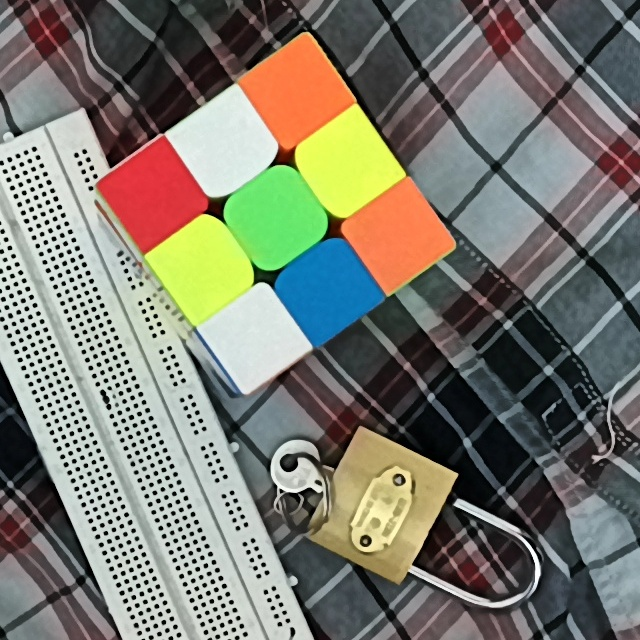tile: (243, 187, 307, 251), (124, 164, 188, 223), (267, 61, 328, 122), (316, 134, 378, 194), (365, 204, 428, 263), (193, 118, 256, 173), (172, 238, 233, 294), (299, 262, 359, 318), (227, 310, 284, 367)
